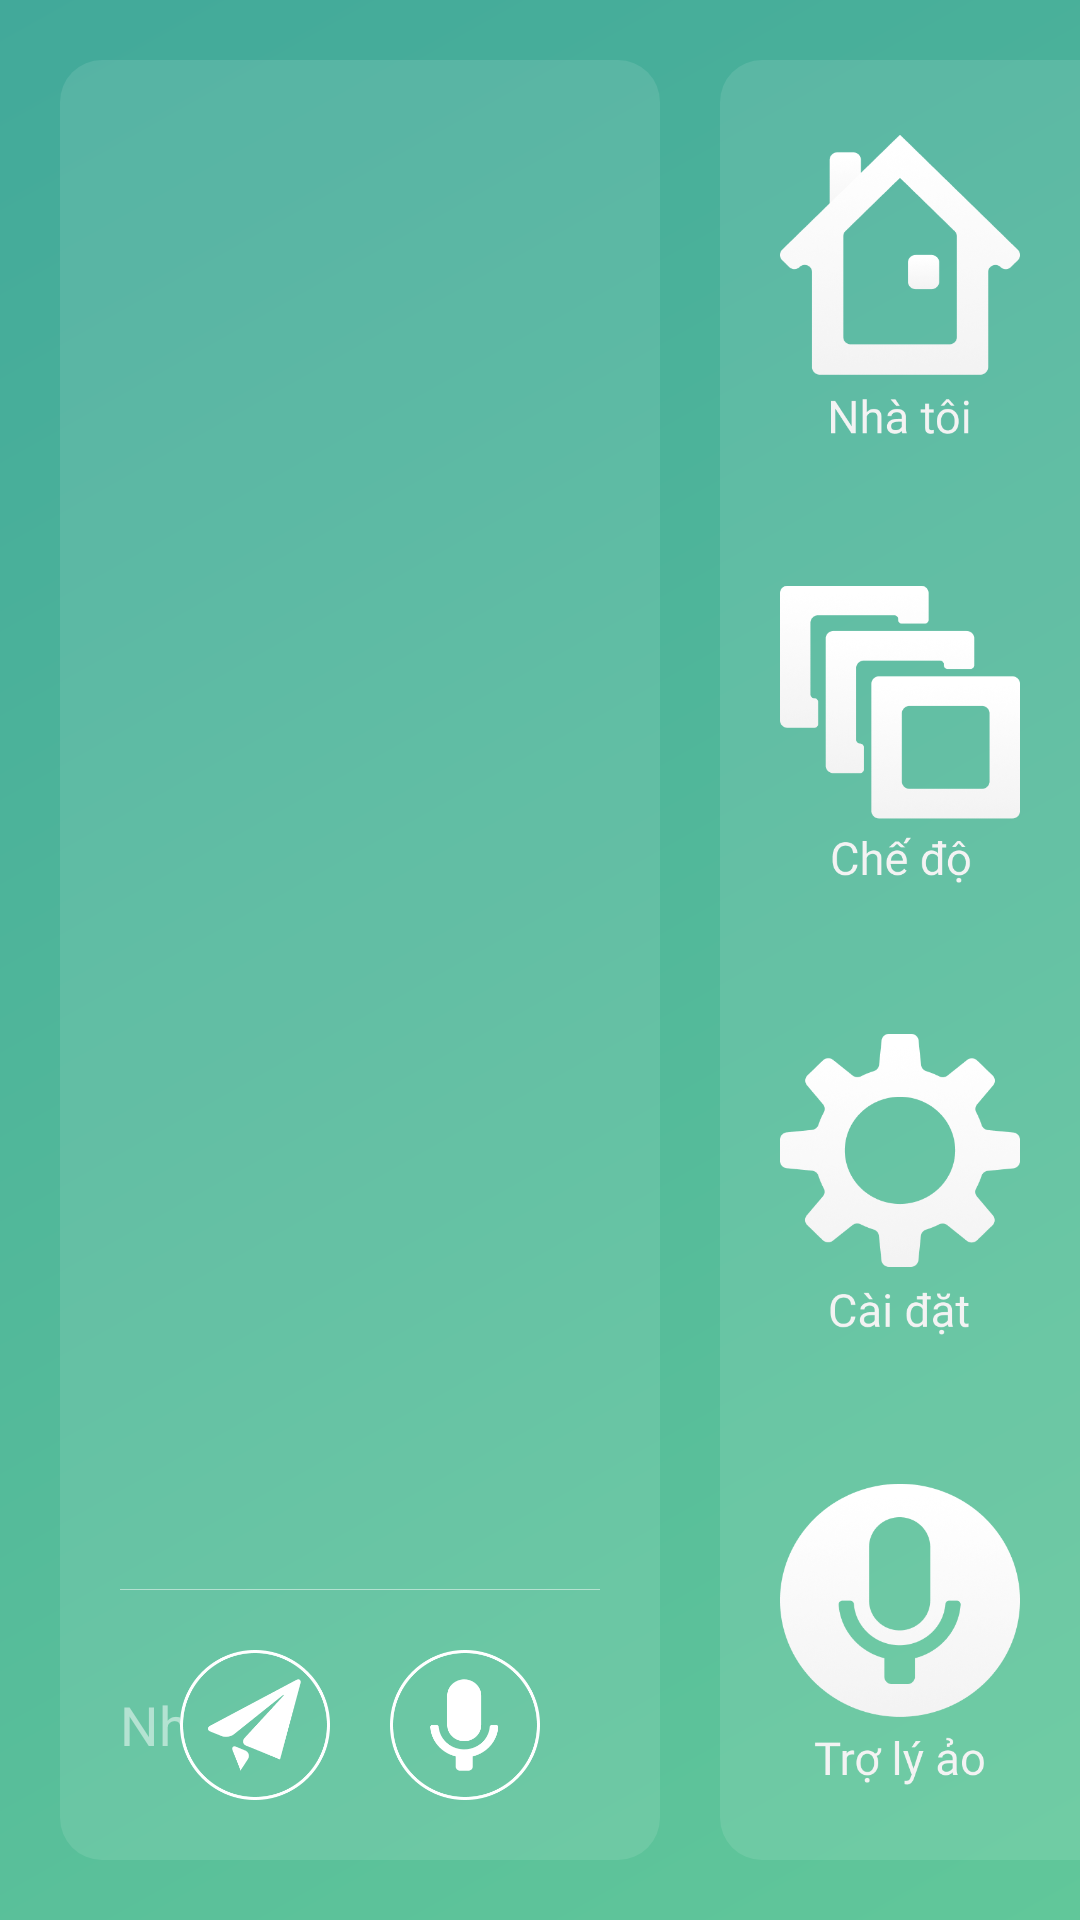

Named icons in this screenshot (1080 x 1920) and their bounding boxes, [x1, y1, x2, y2]:
send: [208, 1679, 301, 1771]
voice: [780, 1484, 1020, 1785], [390, 1650, 540, 1800]
